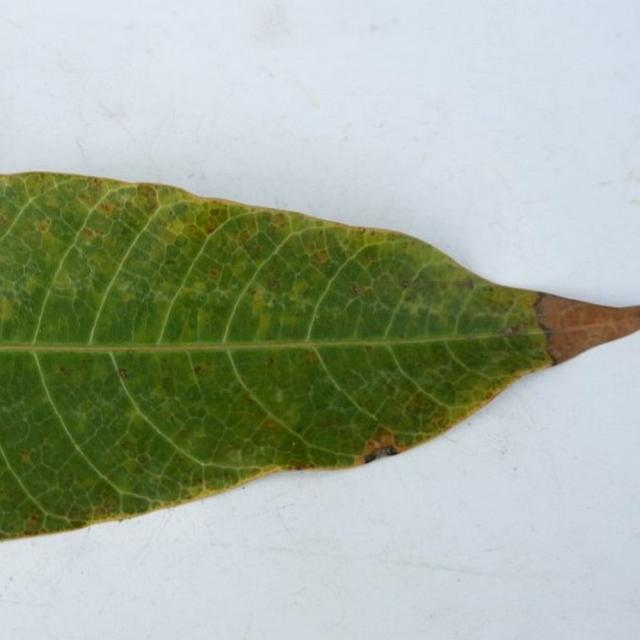Mango: (0, 174, 639, 539)
Powdery_Mildew: (336, 254, 436, 329), (339, 243, 412, 287), (246, 276, 279, 343), (302, 438, 348, 466), (124, 398, 158, 428), (483, 286, 519, 312), (159, 213, 191, 239), (118, 493, 150, 514), (194, 305, 213, 337), (136, 183, 158, 205), (288, 278, 310, 299), (230, 261, 251, 281), (244, 239, 265, 259), (24, 514, 42, 533), (0, 297, 14, 320), (223, 449, 243, 464), (453, 278, 476, 291), (272, 212, 288, 229), (24, 173, 47, 184), (204, 218, 220, 233), (98, 202, 115, 215), (120, 290, 135, 304), (35, 219, 50, 233), (19, 451, 33, 465), (272, 388, 285, 403), (352, 284, 368, 296), (313, 251, 327, 264), (267, 278, 281, 291), (306, 351, 319, 364), (361, 256, 375, 267), (263, 420, 277, 430), (95, 506, 107, 517), (207, 269, 220, 279), (83, 228, 95, 238), (386, 383, 396, 393), (90, 177, 101, 185), (193, 364, 202, 373), (249, 396, 258, 404), (165, 258, 175, 265), (168, 414, 176, 422), (59, 366, 67, 374), (358, 227, 367, 234), (367, 229, 376, 236), (250, 290, 257, 296)
